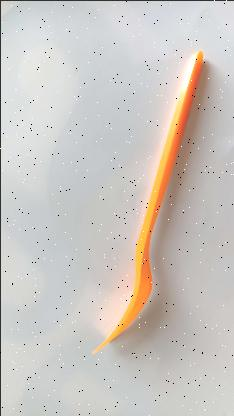Others: (71, 42, 207, 356)
